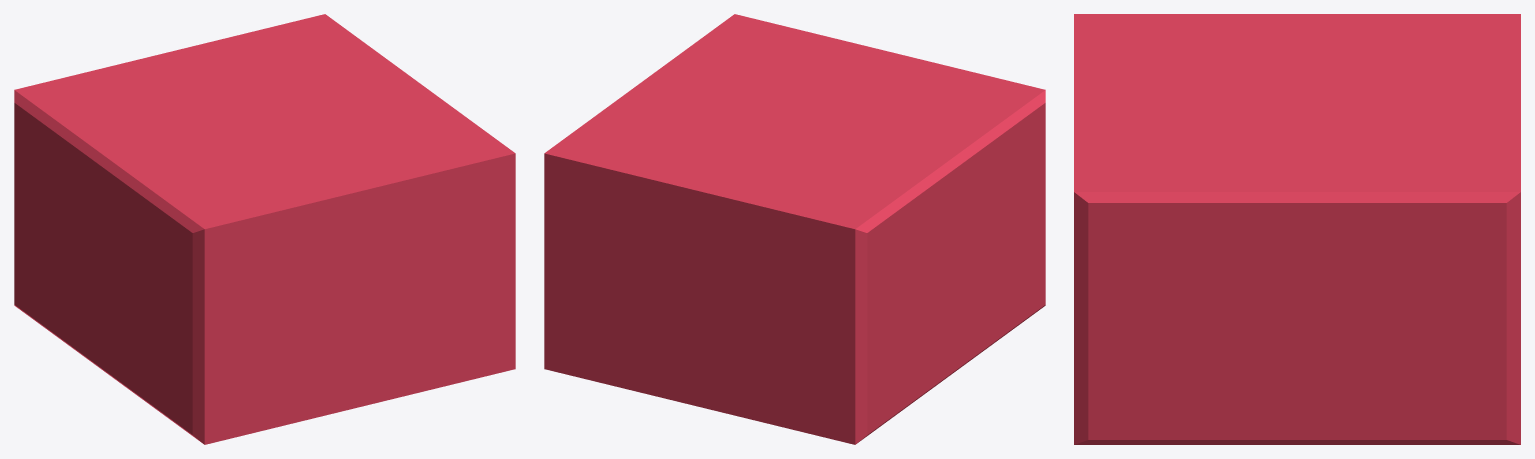
The model's file is Itr_Couch_Inside_Seat_Middle_01.FBX.
The picture shows the model from 3 angles, left to right: view 1: azimuth 30°, elevation 25°; view 2: azimuth 150°, elevation 25°; view 3: azimuth 270°, elevation 25°; orthographic projection. The views are drawn at different scales.
Parts seen in each view (by area): view 1: Itr_Couch_Inside_Seat_Middle_01; view 2: Itr_Couch_Inside_Seat_Middle_01; view 3: Itr_Couch_Inside_Seat_Middle_01.
Boxes of the visible parts, x1,y1,x2,y2 form: Itr_Couch_Inside_Seat_Middle_01: (14,14,515,444); Itr_Couch_Inside_Seat_Middle_01: (544,14,1045,444); Itr_Couch_Inside_Seat_Middle_01: (1074,14,1520,444).
Bounding box in the file's own units: 19.21 × 12.29 × 19.68.
